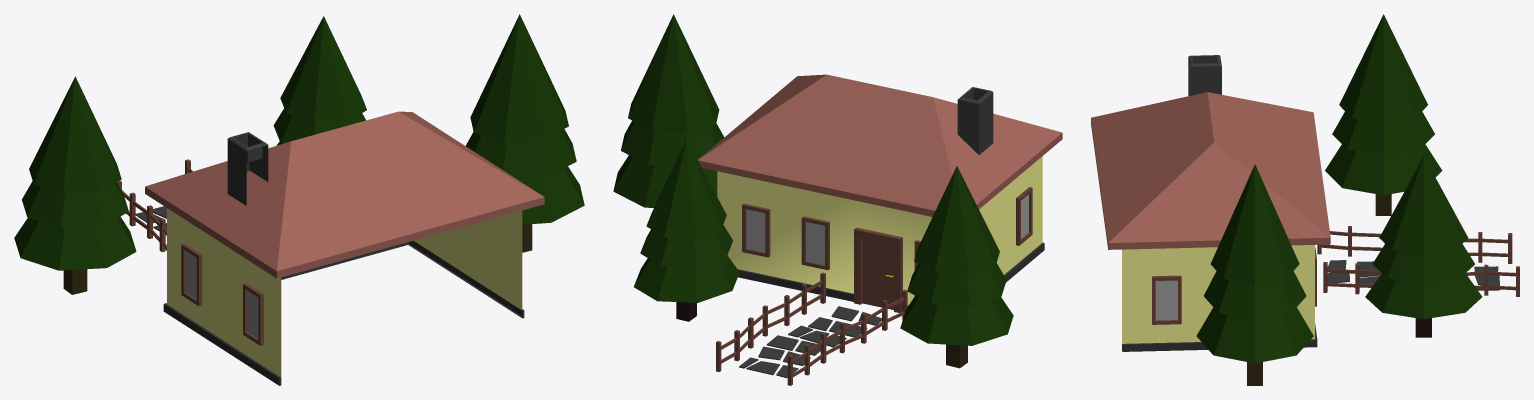
The model's file is revampedHouseVar1.fbx.
3 renders of one model, left to right at view 1: azimuth 30°, elevation 25°; view 2: azimuth 150°, elevation 25°; view 3: azimuth 270°, elevation 25°, orthographic. The views are drawn at different scales.
Parts seen in each view (by area): view 1: Roof, Tree1, Walls, Tree3, Tree2, WallFrame, Chimney, WindowFrames, Window, FenceRight; view 2: Roof, Walls, Tree1, Tree3, Tree2, Door, WindowFrames, Chimney, FenceRight, FenceLeft, Window, WallFrame (+6 smaller); view 3: Roof, Tree3, Tree1, Tree2, Walls, Chimney, FenceLeft, FenceRight, Window, WallFrame, WindowFrames, Stone1 (+2 smaller).
Part boxes in pixels (bbox=[...]): Roof: bbox=[145, 111, 544, 278]; Tree1: bbox=[14, 76, 136, 294]; Walls: bbox=[167, 208, 522, 377]; Tree3: bbox=[466, 14, 584, 252]; Tree2: bbox=[273, 16, 366, 145]; WallFrame: bbox=[163, 240, 524, 385]; Chimney: bbox=[227, 132, 268, 205]; WindowFrames: bbox=[181, 243, 263, 345]; Window: bbox=[185, 251, 258, 338]; FenceRight: bbox=[117, 180, 166, 252]; Roof: bbox=[698, 74, 1062, 216]; Walls: bbox=[717, 156, 1042, 305]; Tree1: bbox=[900, 166, 1013, 368]; Tree3: bbox=[613, 14, 724, 207]; Tree2: bbox=[634, 139, 739, 321]; Door: bbox=[854, 227, 902, 312]; WindowFrames: bbox=[742, 187, 1032, 270]; Chimney: bbox=[957, 87, 993, 154]; FenceRight: bbox=[787, 289, 907, 385]; FenceLeft: bbox=[716, 272, 825, 371]; Window: bbox=[746, 194, 1028, 264]; WallFrame: bbox=[737, 242, 1044, 311]; Roof: bbox=[1091, 92, 1330, 249]; Tree3: bbox=[1196, 164, 1313, 385]; Tree1: bbox=[1325, 14, 1442, 215]; Tree2: bbox=[1365, 156, 1482, 337]; Walls: bbox=[1122, 245, 1314, 343]; Chimney: bbox=[1188, 55, 1221, 95]; FenceLeft: bbox=[1323, 262, 1519, 296]; FenceRight: bbox=[1317, 226, 1512, 263]; Window: bbox=[1155, 280, 1177, 320]; WallFrame: bbox=[1122, 323, 1317, 351]; WindowFrames: bbox=[1152, 247, 1316, 324]; Stone1: bbox=[1327, 260, 1349, 282].
Bounding box in the file's own units: 654 × 300 × 534.
